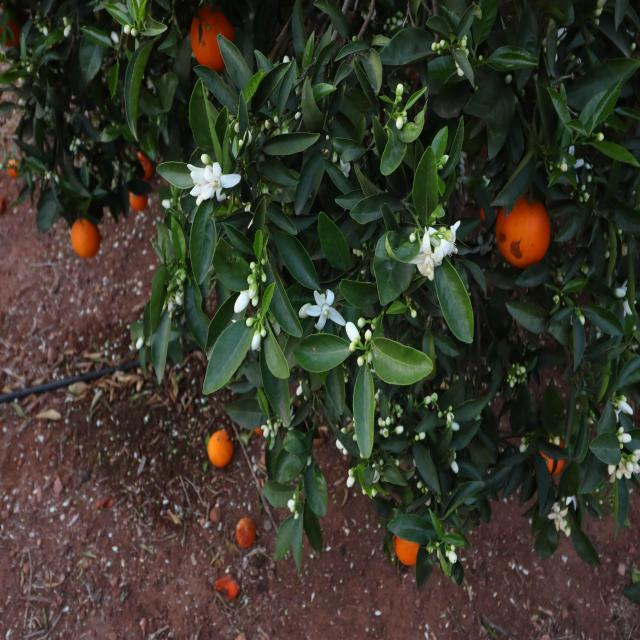Bunga: (306, 290, 346, 332), (205, 163, 243, 200), (409, 231, 438, 279), (433, 222, 460, 264), (187, 163, 209, 203), (548, 502, 568, 534), (619, 449, 640, 476), (614, 394, 633, 420), (346, 321, 361, 352), (248, 262, 268, 284), (234, 290, 250, 314), (376, 416, 391, 440), (446, 406, 459, 432), (607, 463, 624, 482), (248, 278, 260, 304), (252, 328, 266, 350), (166, 296, 183, 314), (262, 418, 275, 440), (618, 428, 632, 447), (396, 110, 408, 131), (424, 391, 438, 408), (288, 499, 298, 519), (346, 468, 354, 489), (341, 162, 352, 176), (337, 441, 347, 456), (301, 303, 311, 317), (394, 425, 404, 437), (396, 82, 402, 102), (365, 329, 373, 341)
Jeruk Sudah Matang: (498, 198, 551, 268), (192, 7, 234, 70), (71, 216, 100, 258), (208, 430, 235, 468), (394, 536, 419, 566), (137, 152, 153, 181), (130, 194, 148, 212)
